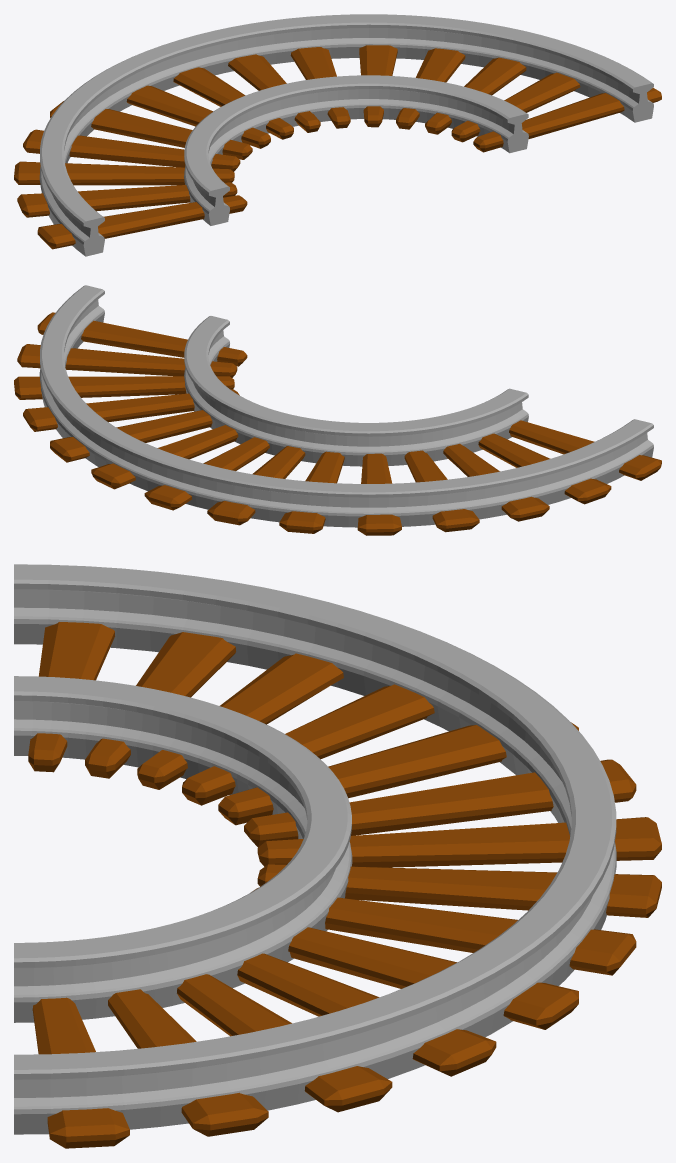
The model's file is RayUzun180lik.fbx.
3 views of the same model, one above another, from view 1: azimuth 30°, elevation 25°; view 2: azimuth 150°, elevation 25°; view 3: azimuth 270°, elevation 25° (orthographic). The views are drawn at different scales.
Visible parts, largest first — view 1: Railroad113.002; view 2: Railroad113.002; view 3: Railroad113.002.
Boxes of the visible parts, x1,y1,x2,y2 form: Railroad113.002: (14, 14, 661, 256); Railroad113.002: (14, 285, 661, 535); Railroad113.002: (14, 564, 661, 1148).
Bounding box in the file's own units: 3.3 × 0.1816 × 1.65.
